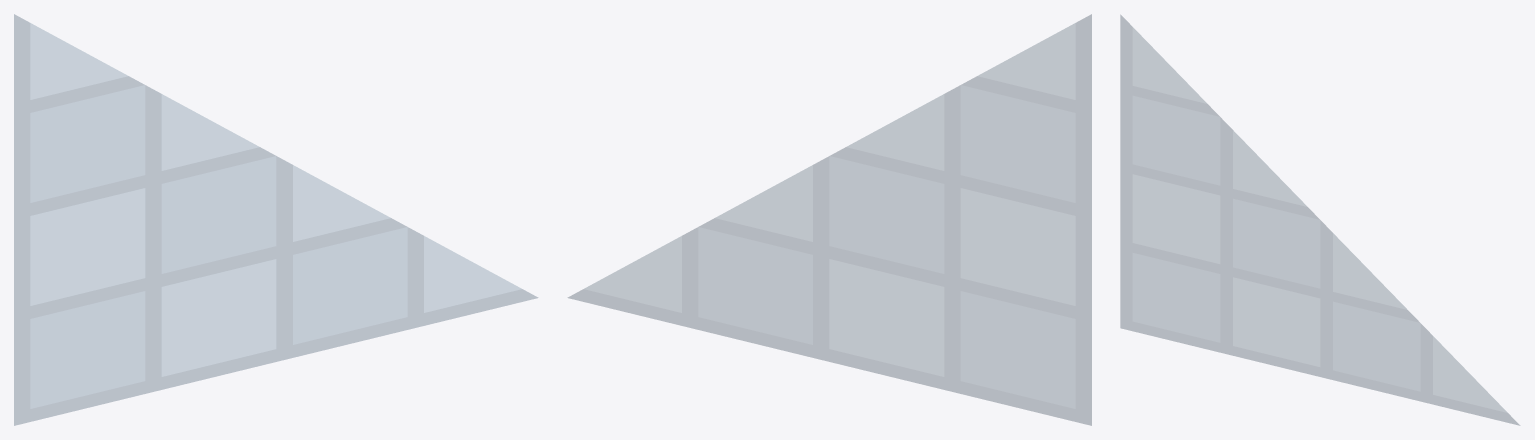
File: alpha-blend.gltf
3 renders of one model, left to right at view 1: azimuth 30°, elevation 25°; view 2: azimuth 150°, elevation 25°; view 3: azimuth 330°, elevation 25°, orthographic. The views are drawn at different scales.
Bounding box in the file's own units: 4 × 3 × 0.
Materials: 1 (1 with a texture image).
